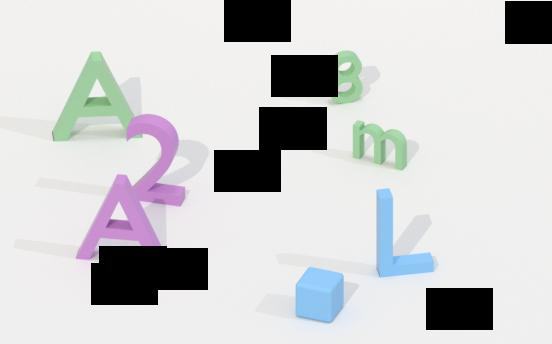2: (113, 114, 188, 209)
8: (322, 47, 367, 107)
A-hoa: (70, 175, 177, 271), (44, 49, 148, 147)
hop: (291, 264, 349, 325)
l: (372, 185, 442, 277)
m: (347, 117, 411, 174)
